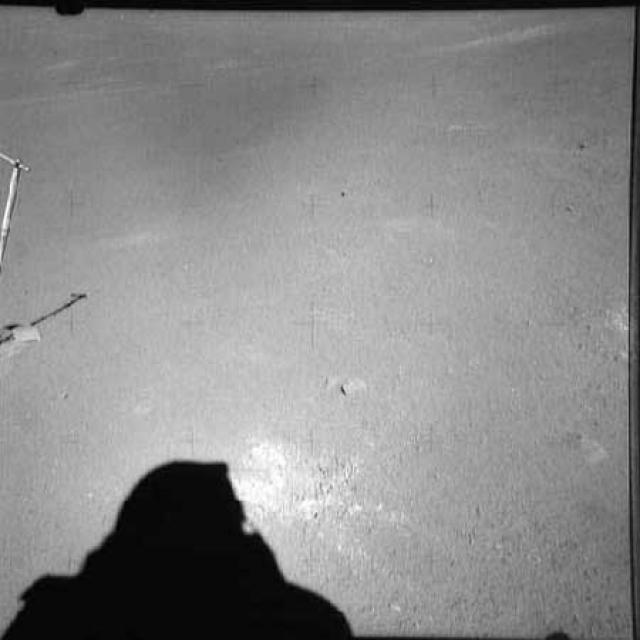artifact: (0, 152, 91, 366)
